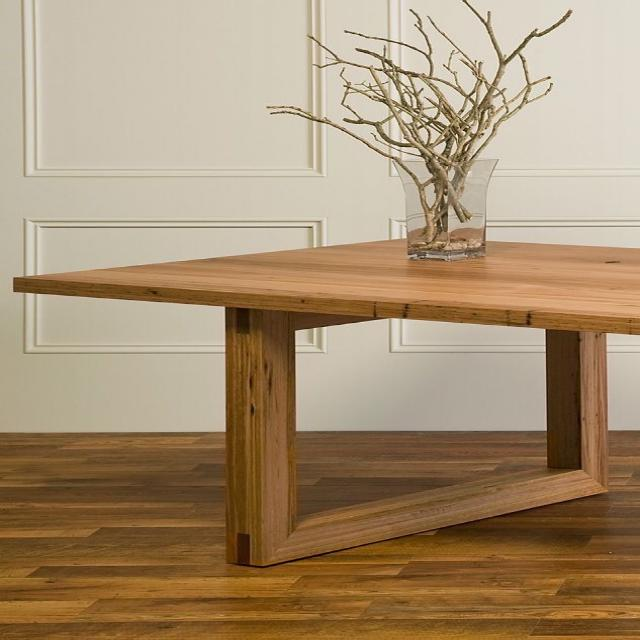table: (10, 201, 640, 567)
